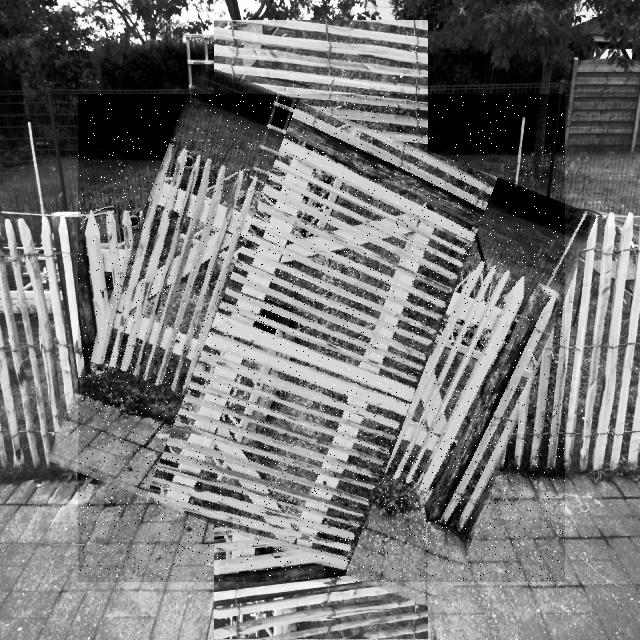fences: (78, 94, 565, 582)
